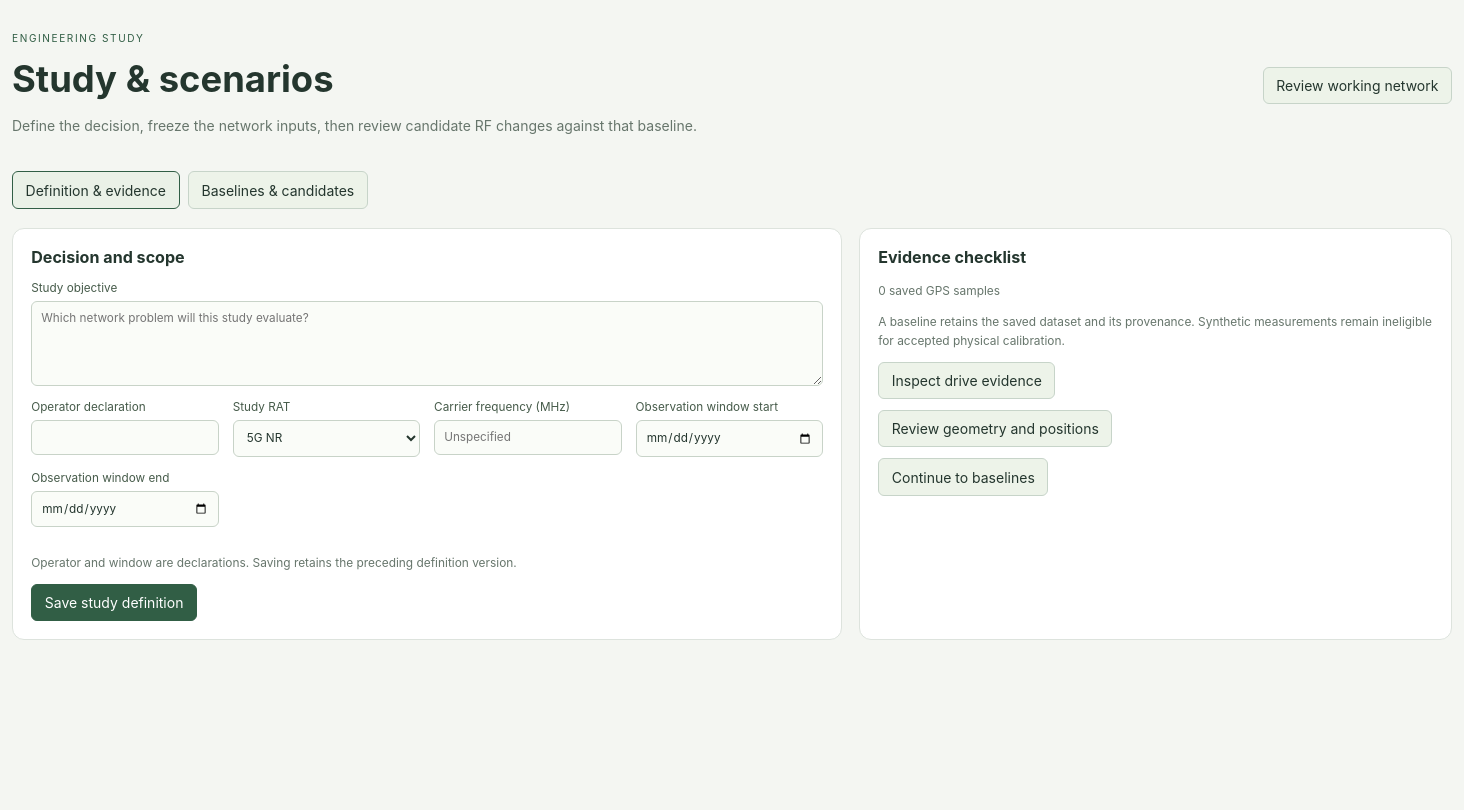
Test: saved study workflow › keeps failed database drafts visible and never declares them confirmed
The width and height of the screenshot is (1464, 810).
Type "Review" into the text box labelled "Study objective". click: (427,344)
box: [31,301,823,386]
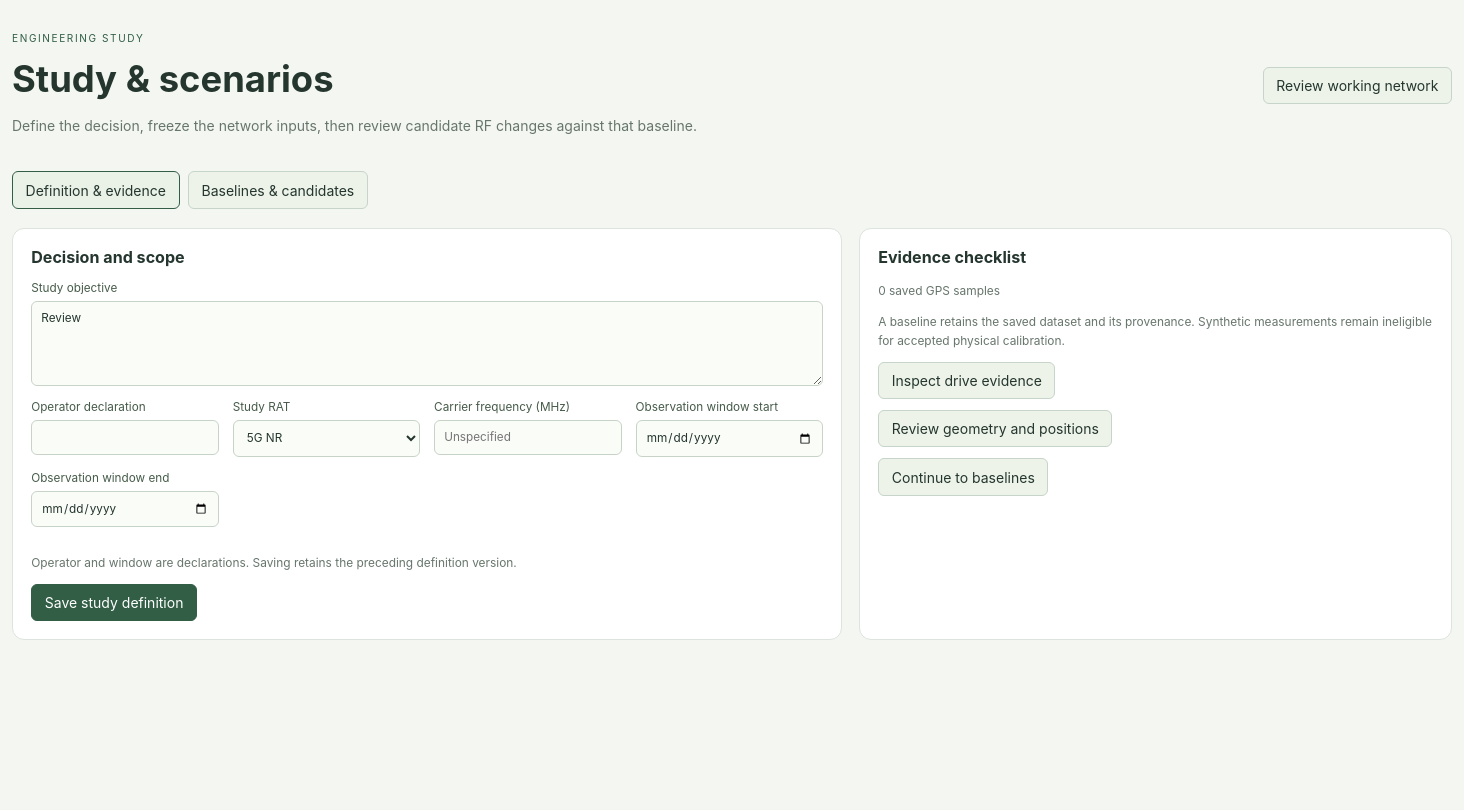
Type "Unknown" into the field labelled "Operator declaration". click: (125,438)
box: [31,420,219,455]
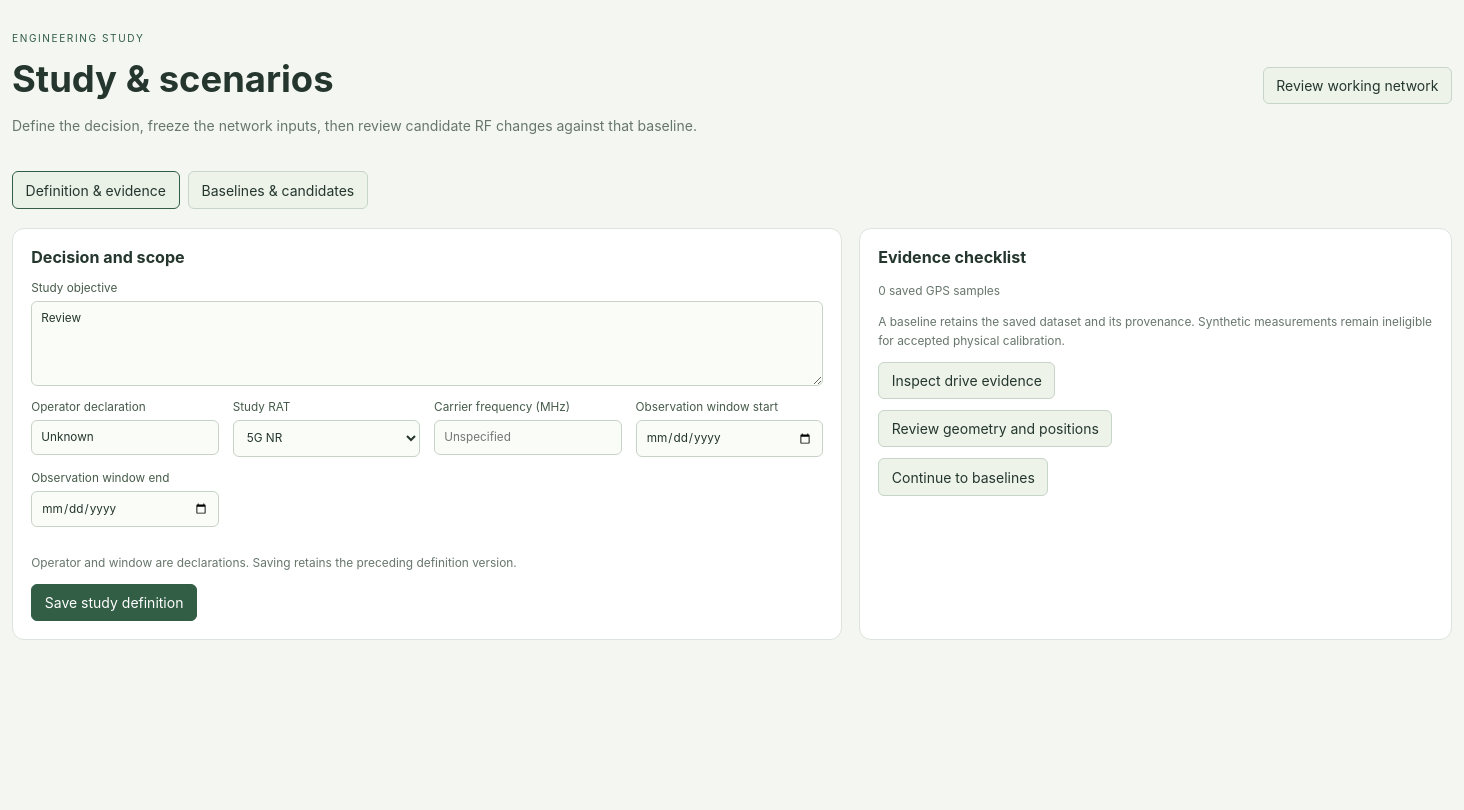
Click the button "Save study definition". click: (114,602)
box: [31,584,197,621]
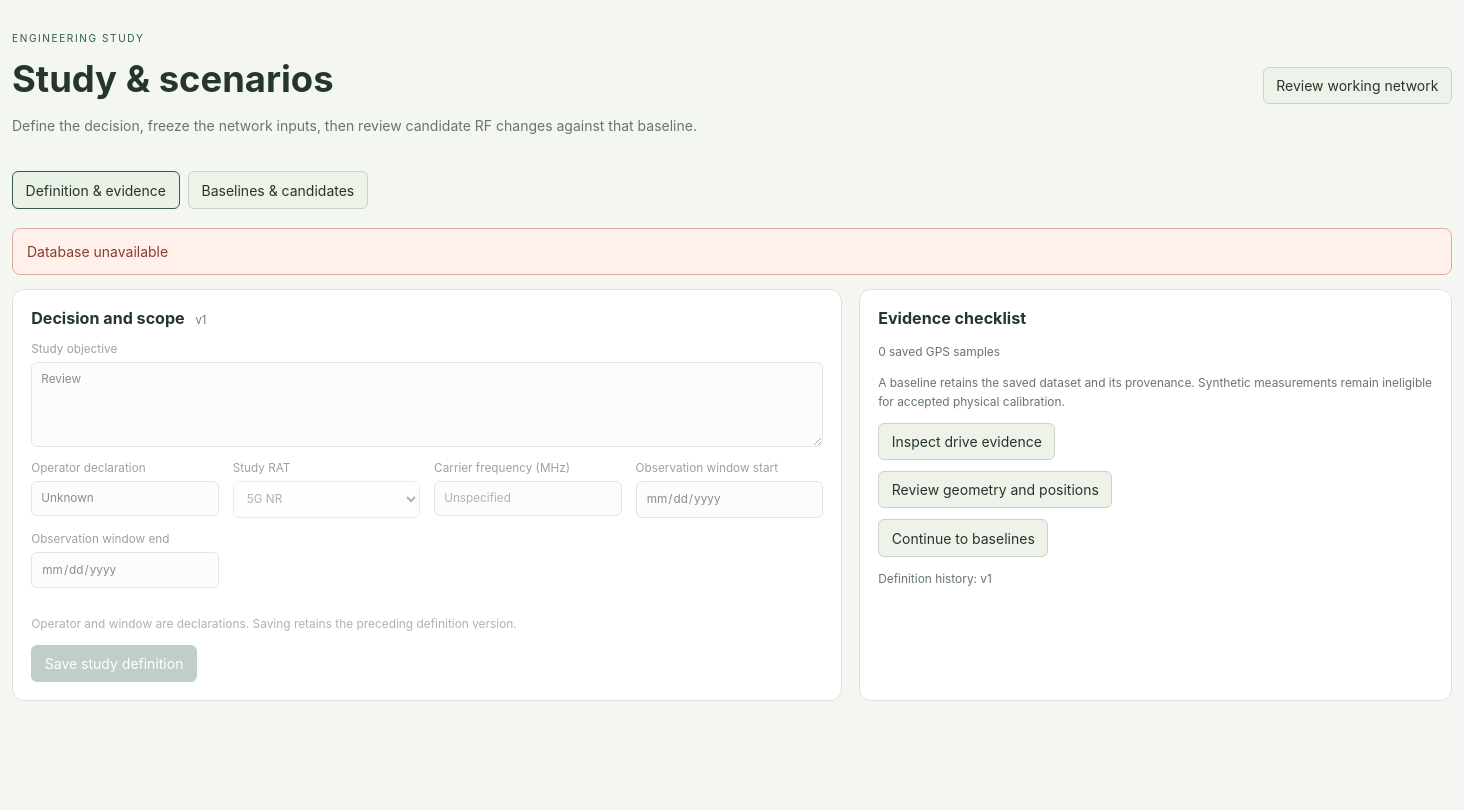
Expected: the message reads "Database unavailable", [27,243,168,260]
Click the button "Baselines & candidates". click: (278,190)
box: [188,172,368,209]
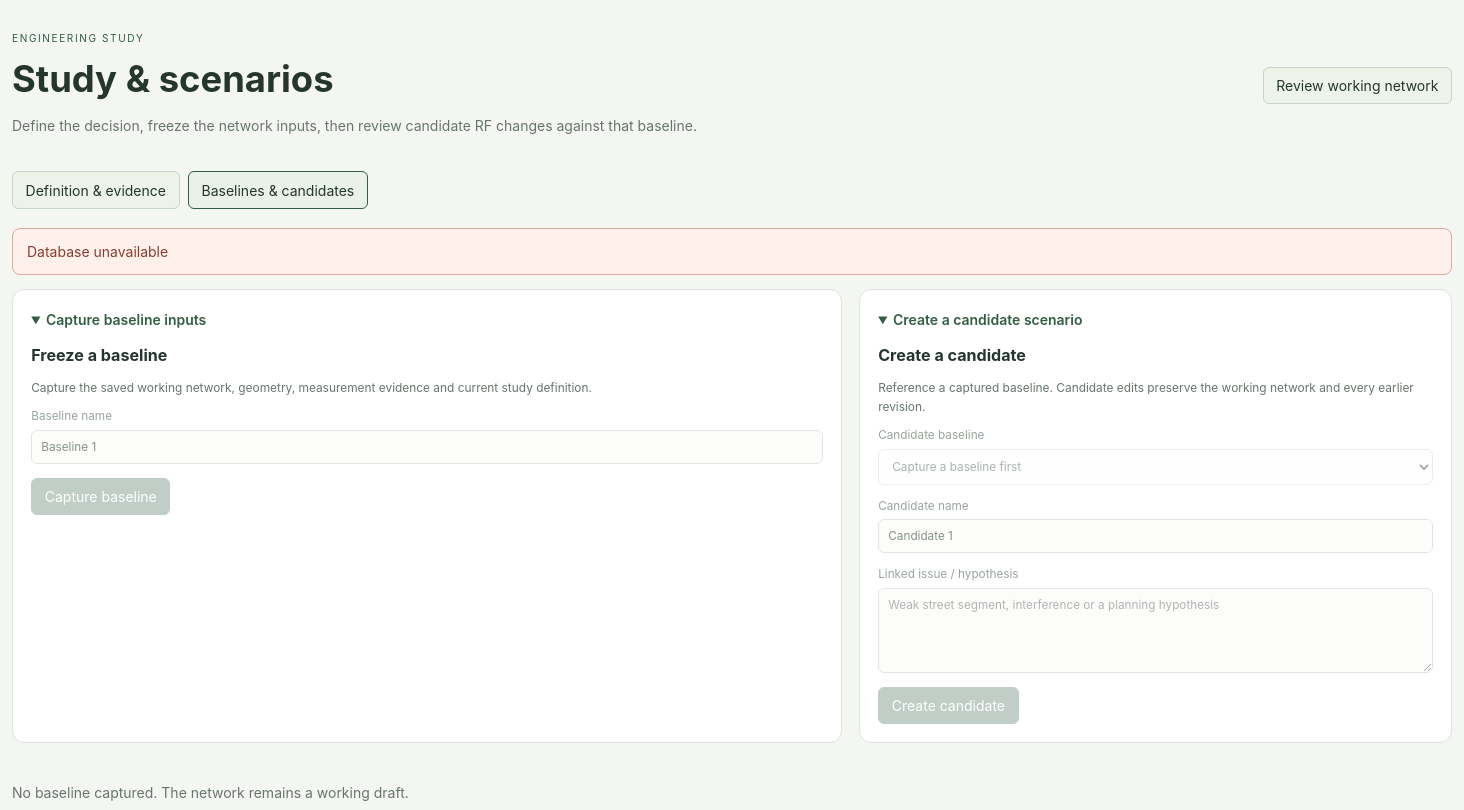
Expected: the element "Capture baseline" is disabled, [31,409,823,515]
